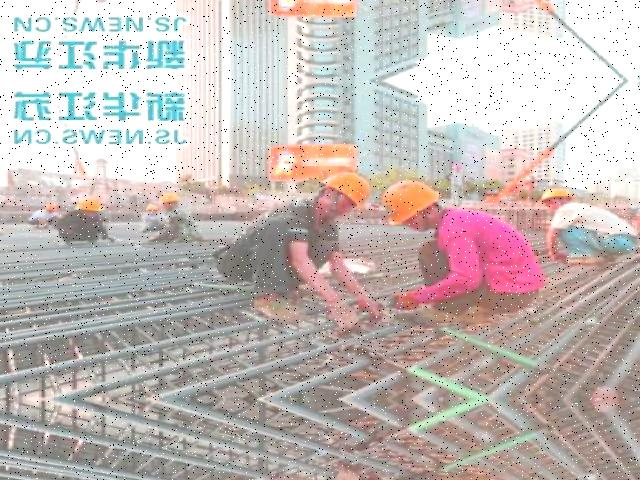Helmet: (377, 176, 448, 234), (316, 167, 376, 213), (540, 183, 580, 208)
